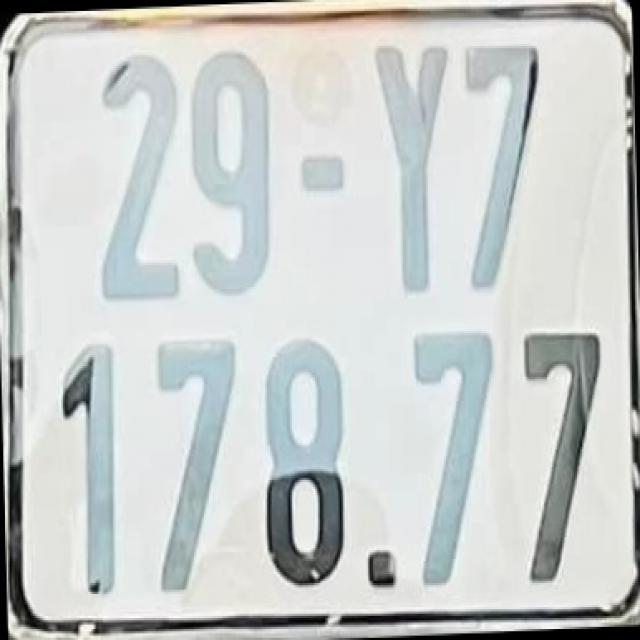1: (52, 333, 130, 594)
2: (90, 44, 186, 307)
7: (146, 324, 240, 596), (404, 320, 498, 590), (516, 322, 604, 590), (461, 35, 542, 292)
8: (253, 322, 354, 592)
9: (186, 42, 280, 300)
Y: (372, 37, 452, 298)
